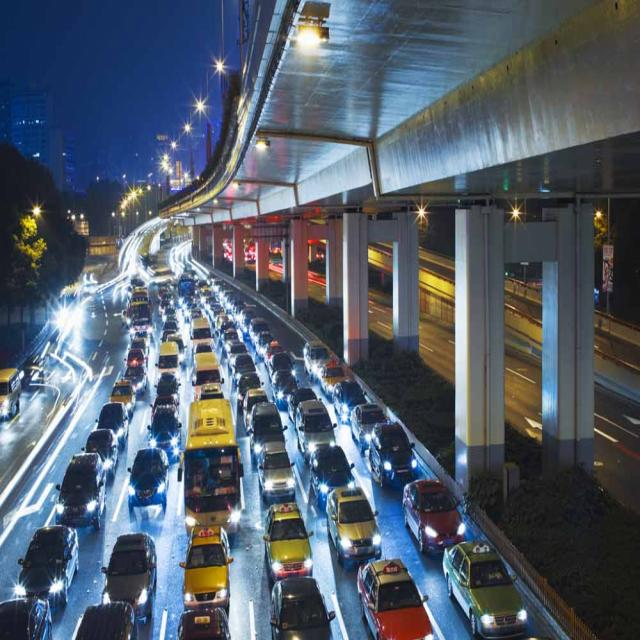bus: (183, 398, 243, 542)
car: (356, 555, 433, 640), (180, 513, 234, 612), (399, 476, 467, 552), (104, 526, 157, 616), (261, 505, 314, 584), (55, 452, 106, 526), (126, 439, 171, 518), (254, 442, 298, 498)
